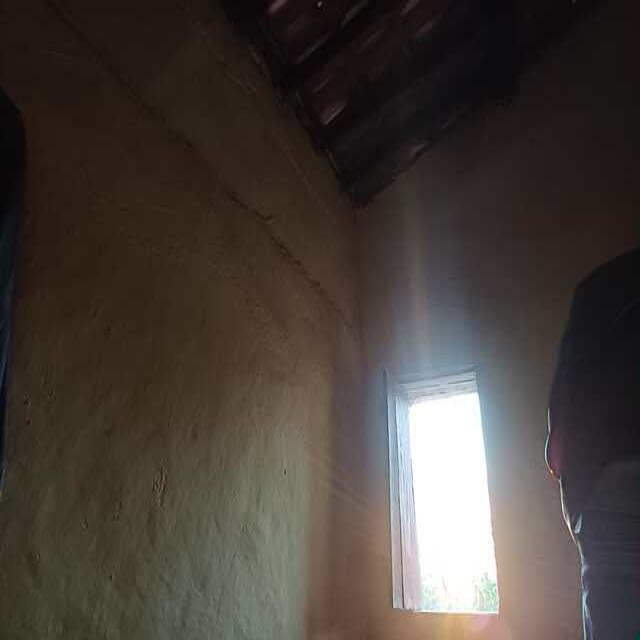colete: (553, 276, 640, 496)
pessoa: (537, 241, 640, 640)
